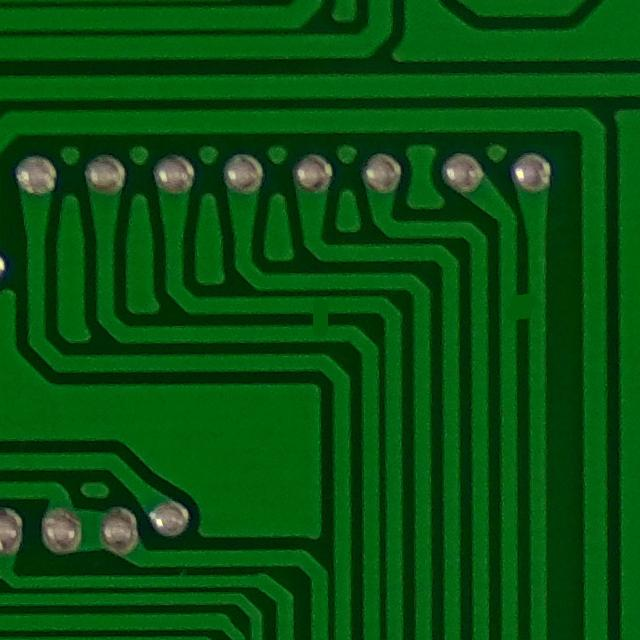short: (293, 295, 348, 346)
